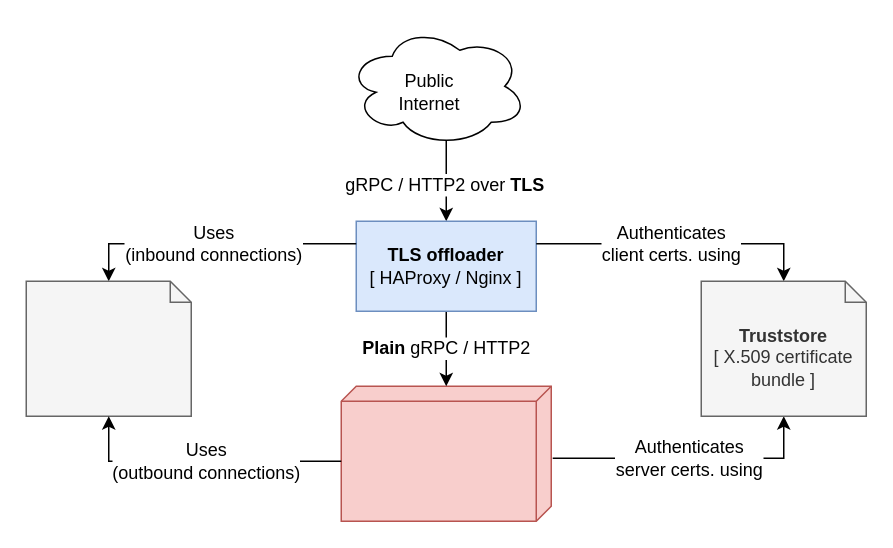
This 893x548 diagram has some shape labels left out. The centre of each missing label's shape, as x and y in pixels:
Nuts Node: (445,453)
Server Certificate [ Private Key ]: (108,348)
